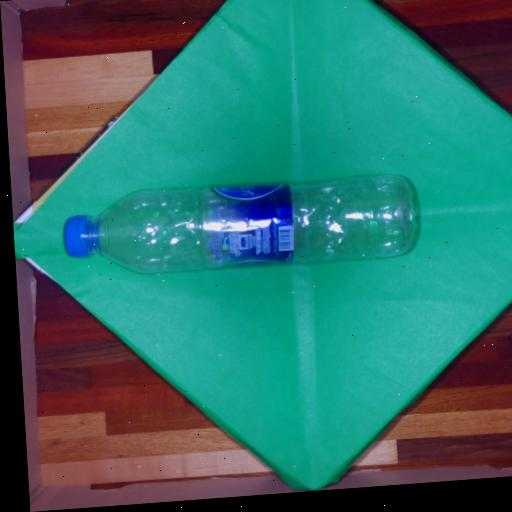bottle: (65, 176, 415, 273)
